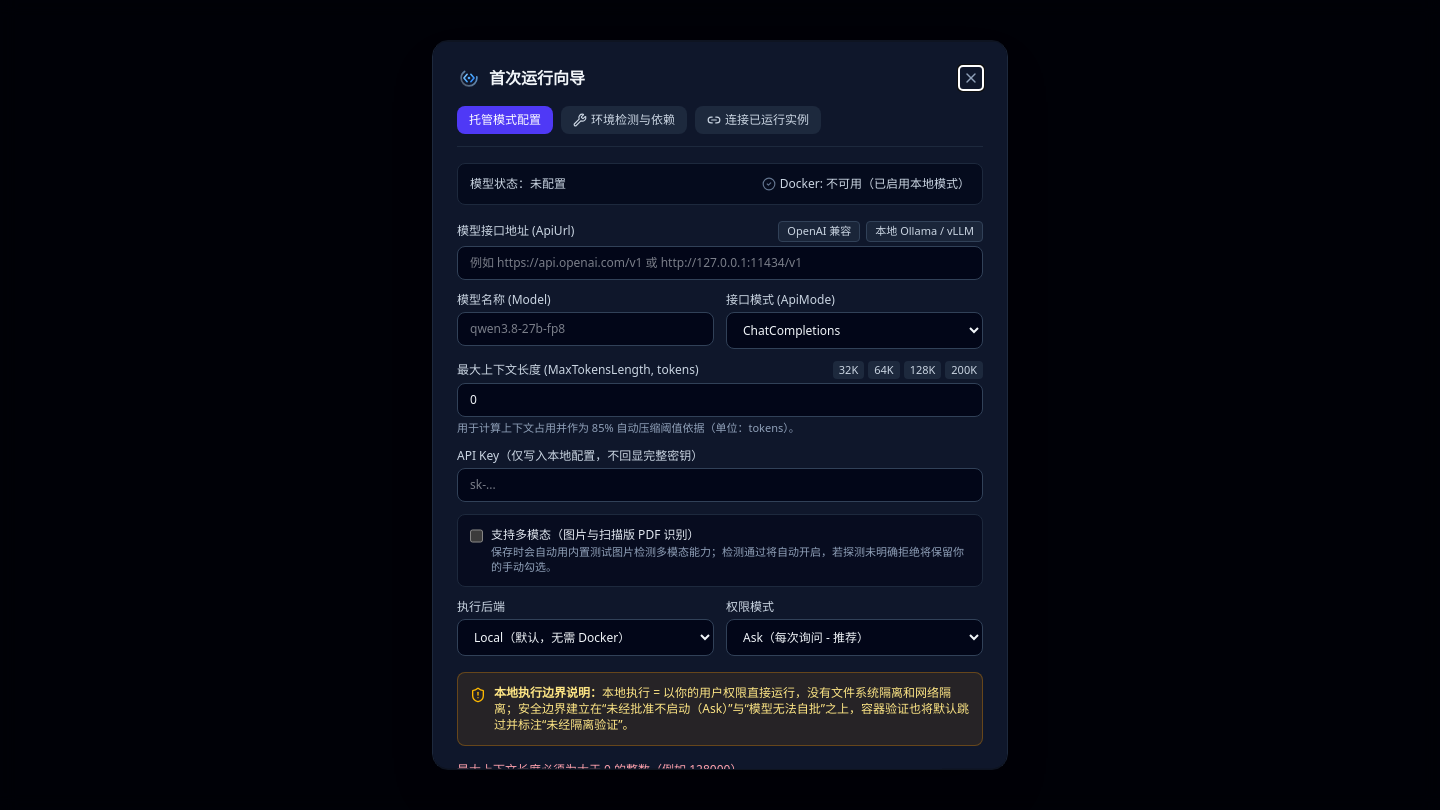
Test: Security boundary & MVP interactive cards › allows setting maxTokensLength via preset or custom value in WelcomeWizardModal and blocks invalid input
This screenshot has width=1440, height=810.
Earlier steps of the test are not shown.
Step 1. Click the button "64K" → coordinates (884, 370), box [868, 360, 900, 379]
(page scrolled)
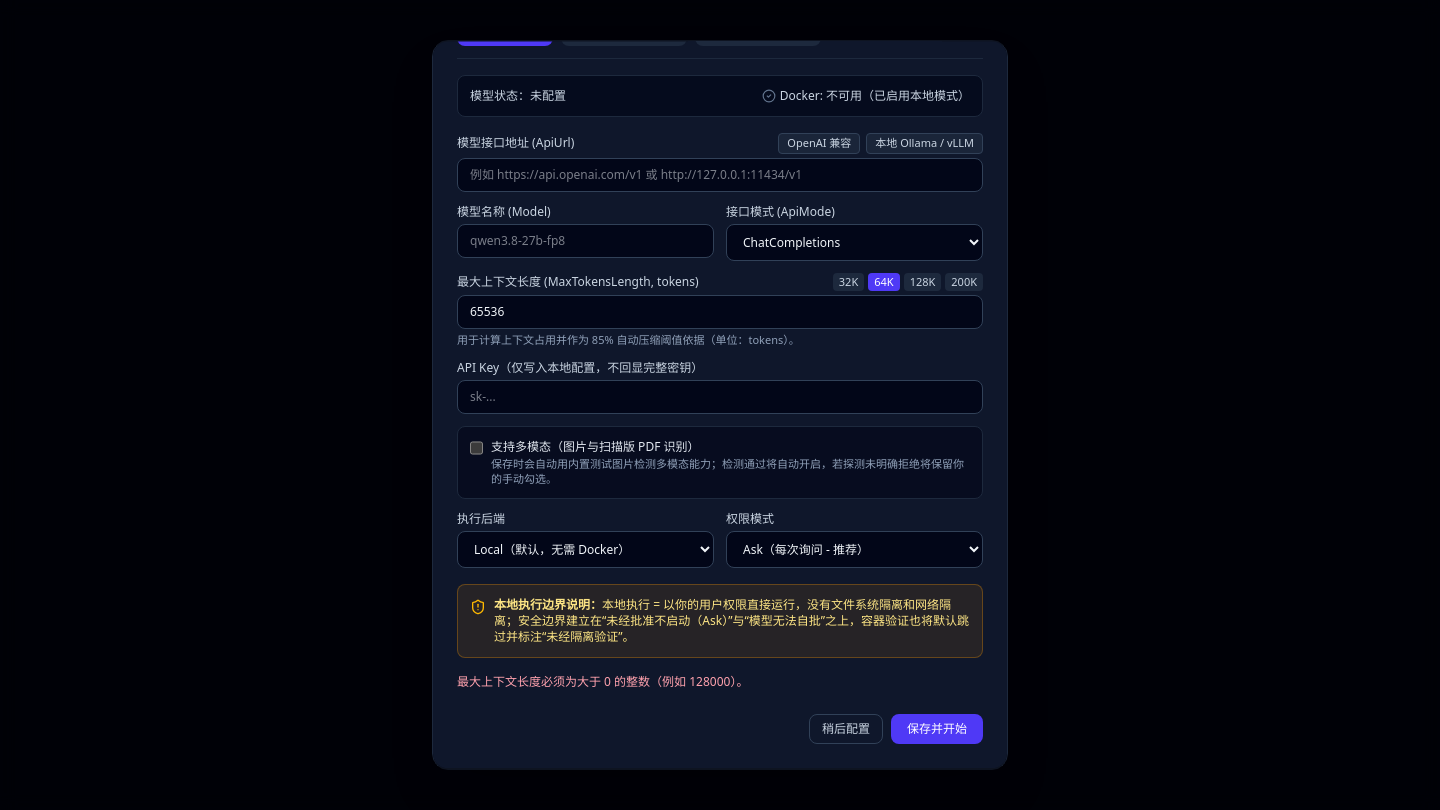
Check: the number field labelled "最大上下文长度" holds "65536", box [457, 296, 983, 330]
Step 2. Click the button "保存并开始" → coordinates (937, 730), box [891, 715, 983, 745]
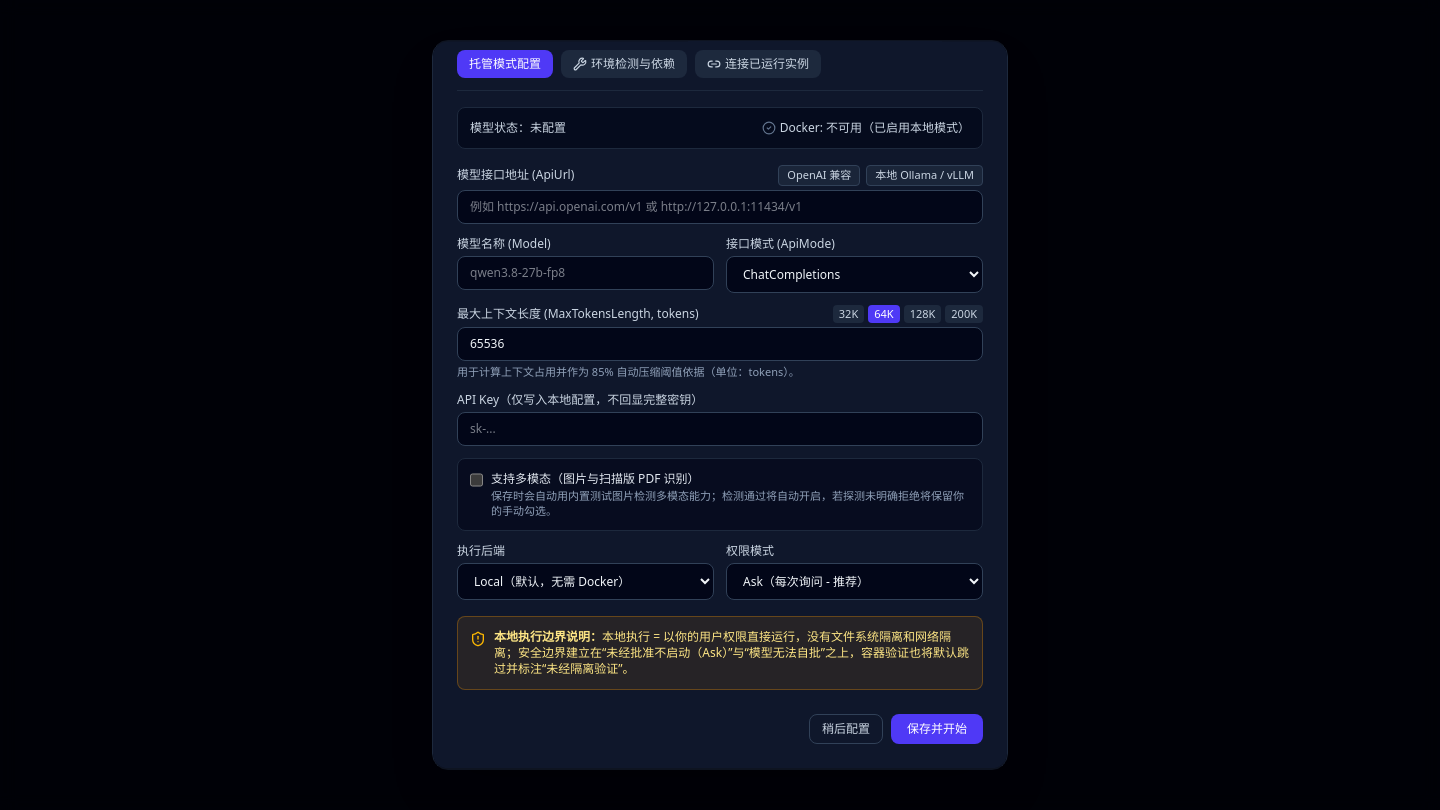
Step 3. Click the button "连接已运行实例" → coordinates (758, 64), box [695, 50, 821, 78]
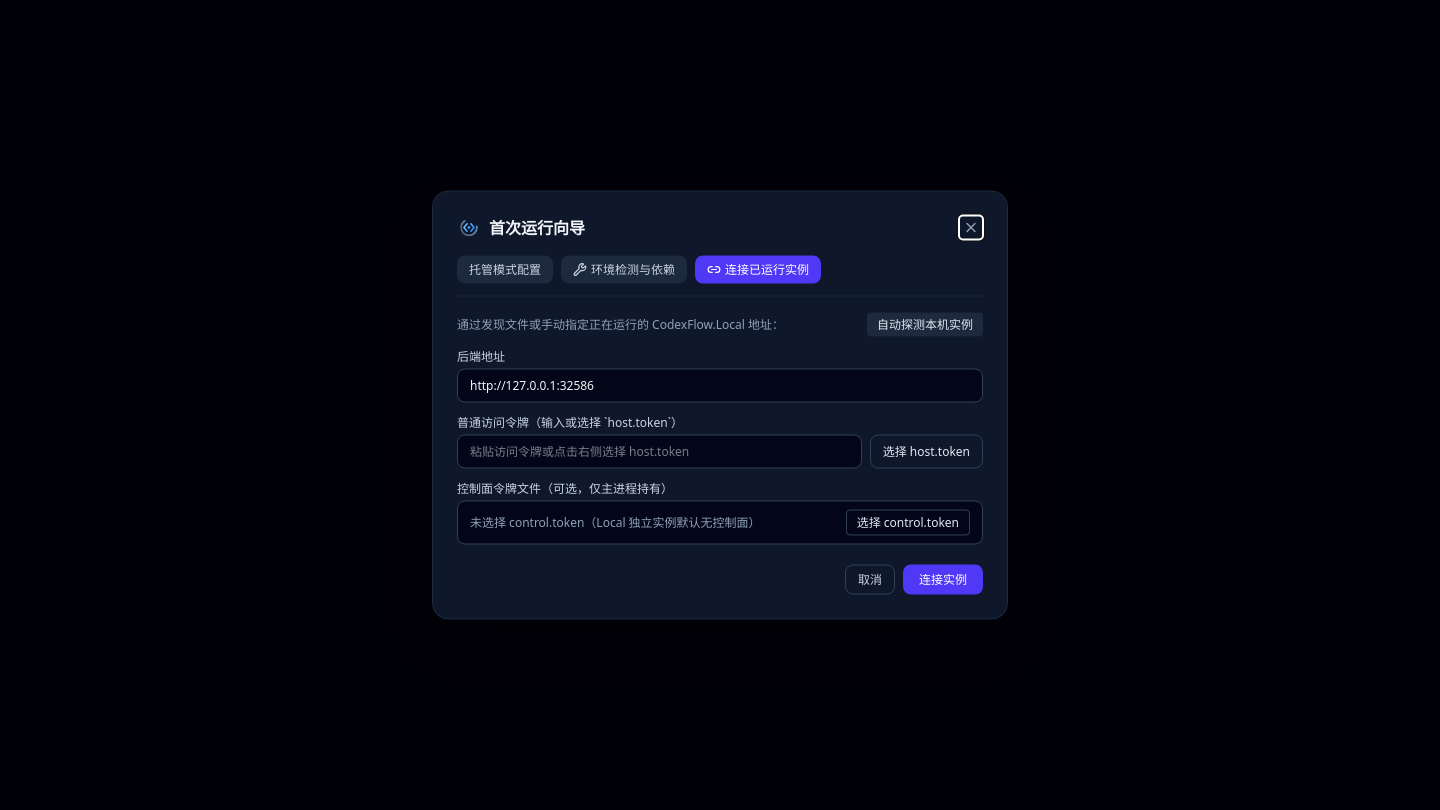
Check: the field labelled "后端地址" holds "http://127.0.0.1:32586", box [457, 368, 983, 402]
